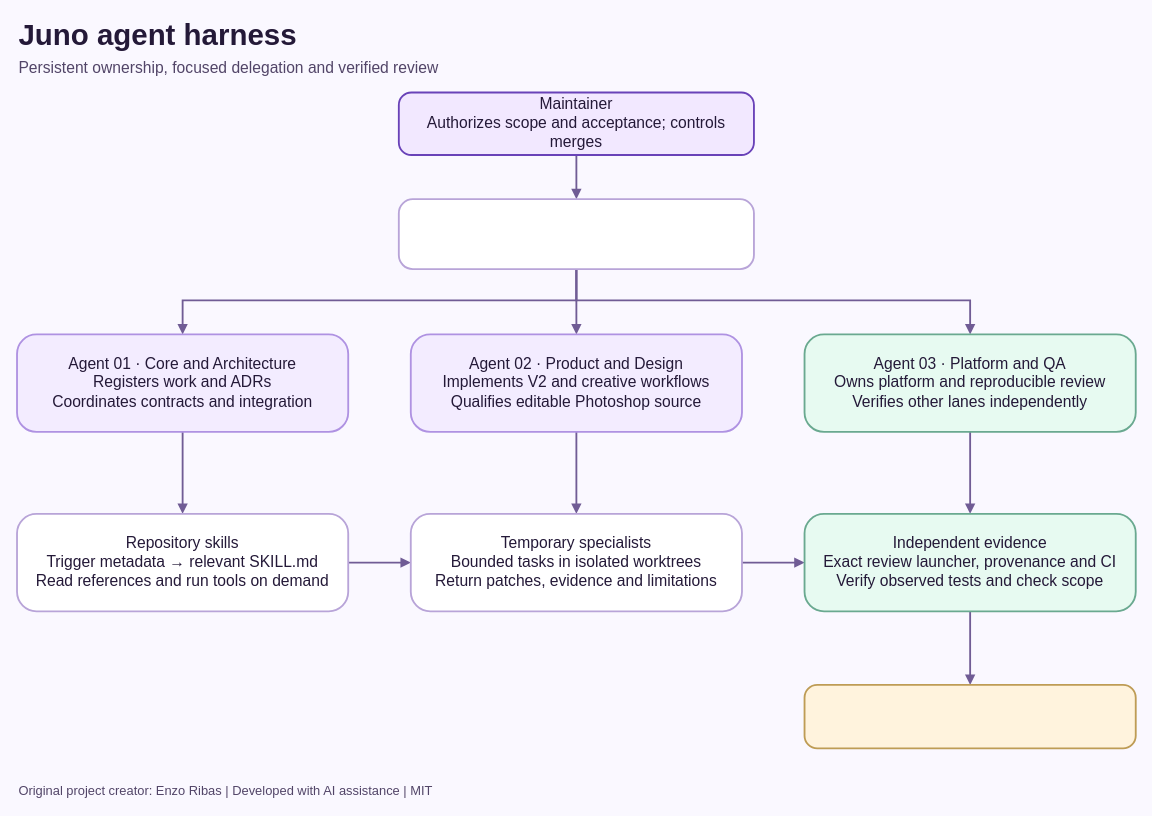
The diagram is 1152 pixels wide and 816 high, and some of its shapes have lost their labels. The centre of each missing label's shape, as x and y in pixels:
"AGENTS.md and task registry Exact base, reserved paths, checks and handoff" belongs at [575,234].
"Juno Research Pinned inputs, raw checks and matched evaluation" belongs at [969,716].
